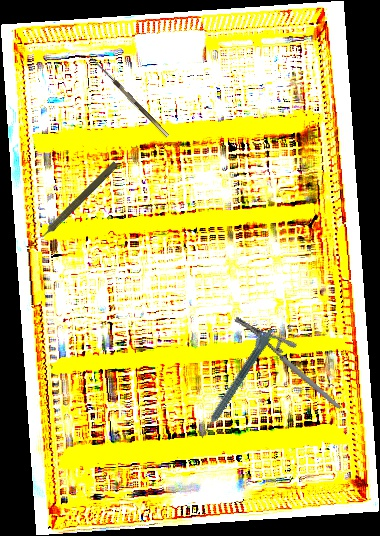Handpiece: (195, 324, 276, 438), (30, 157, 121, 248)
Hook Surgical: (84, 54, 170, 142)
Needle Holder: (232, 293, 342, 433)
